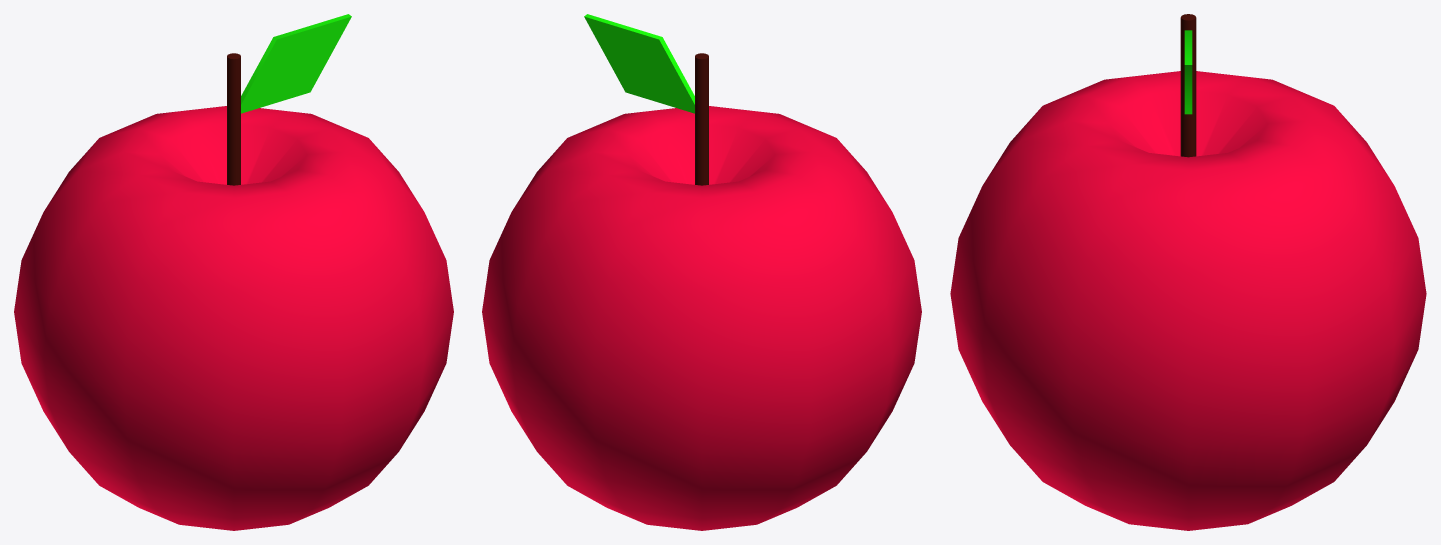
The model's file is ringo3.fbx.
3 renders of one model, left to right at view 1: azimuth 30°, elevation 25°; view 2: azimuth 150°, elevation 25°; view 3: azimuth 270°, elevation 25°, orthographic. The views are drawn at different scales.
Parts seen in each view (by area): view 1: polymsh1; view 2: polymsh1; view 3: polymsh1.
Part boxes in pixels (box(x1,y1,x2,y2)): polymsh1: box(14, 14, 453, 530); polymsh1: box(482, 14, 921, 530); polymsh1: box(950, 14, 1426, 530).
Size of the model in its own units: 4 by 4.63 by 4.
Materials: 1 (1 with a texture image).
